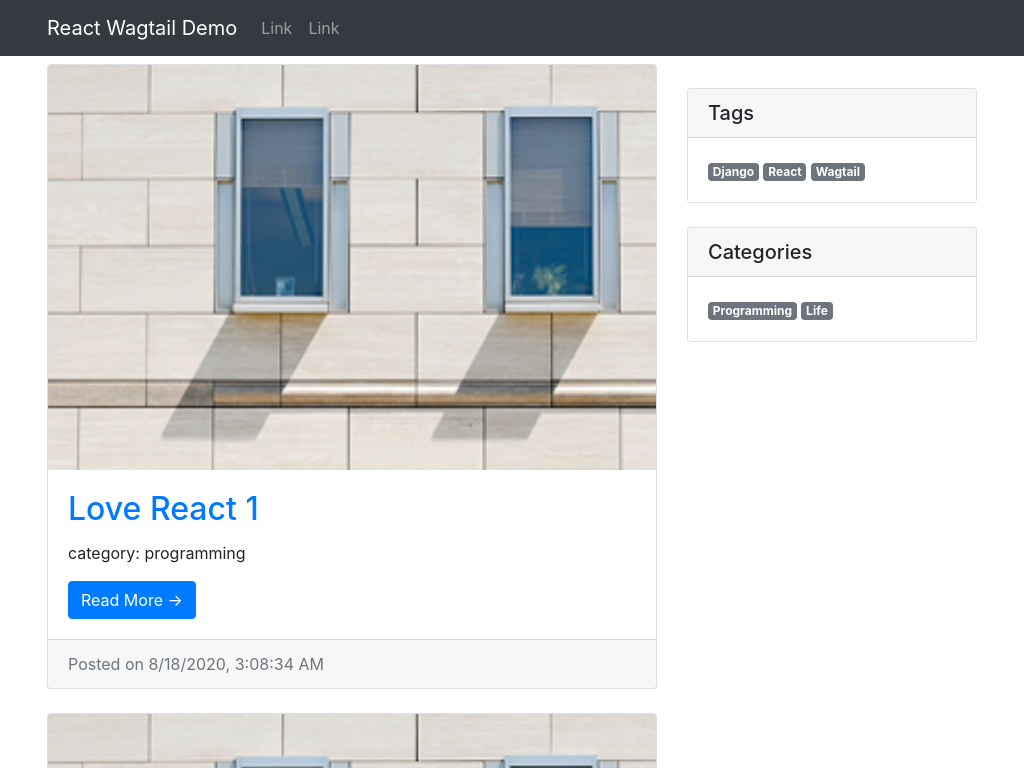
Test: Test Post Link
Note: Now click the first post title
What coordinates should you click on to do the following:
click the link "Love React 1"
I would click on:
 (163, 509)
Its box is left=68, top=489, right=259, bottom=528.
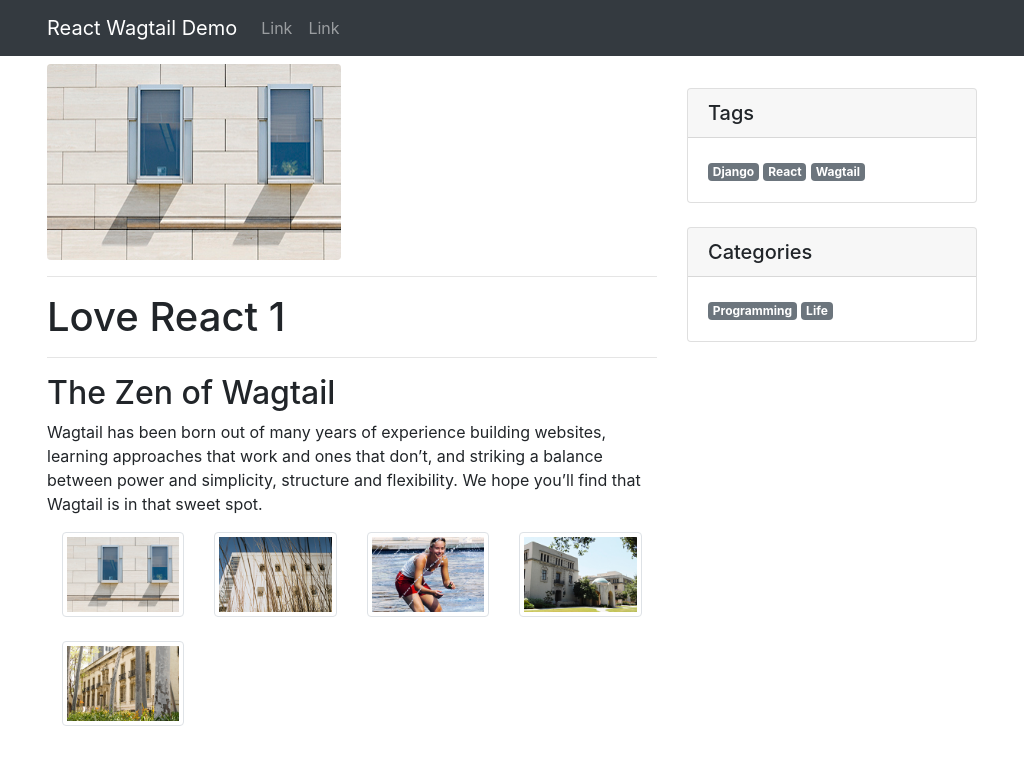
Check: the heading "The Zen of Wagtail" is shown, box left=47, top=373, right=335, bottom=412
